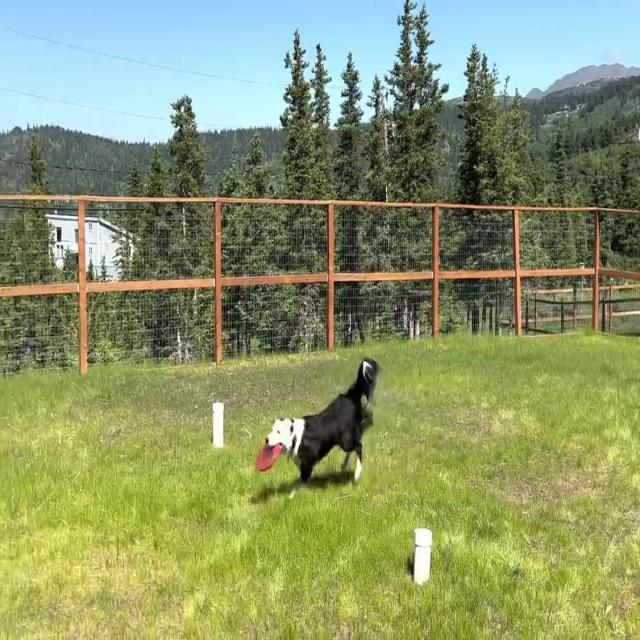Dog: (265, 355, 384, 500)
